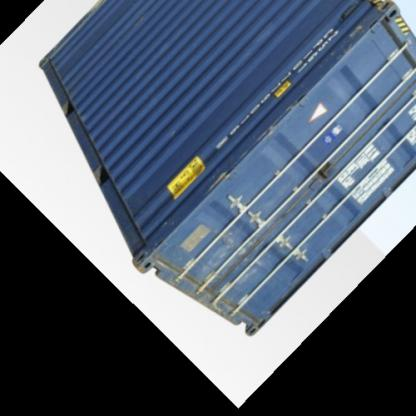Damage: (186, 222, 246, 290), (321, 20, 374, 66)
